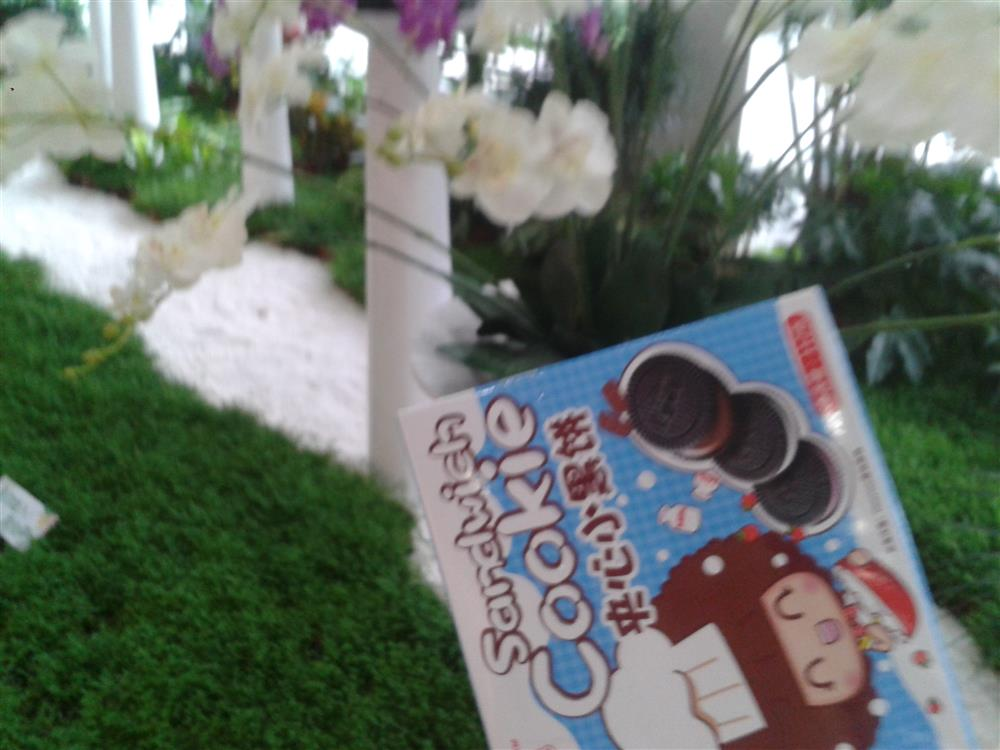mizimizi: (395, 295, 975, 738)
